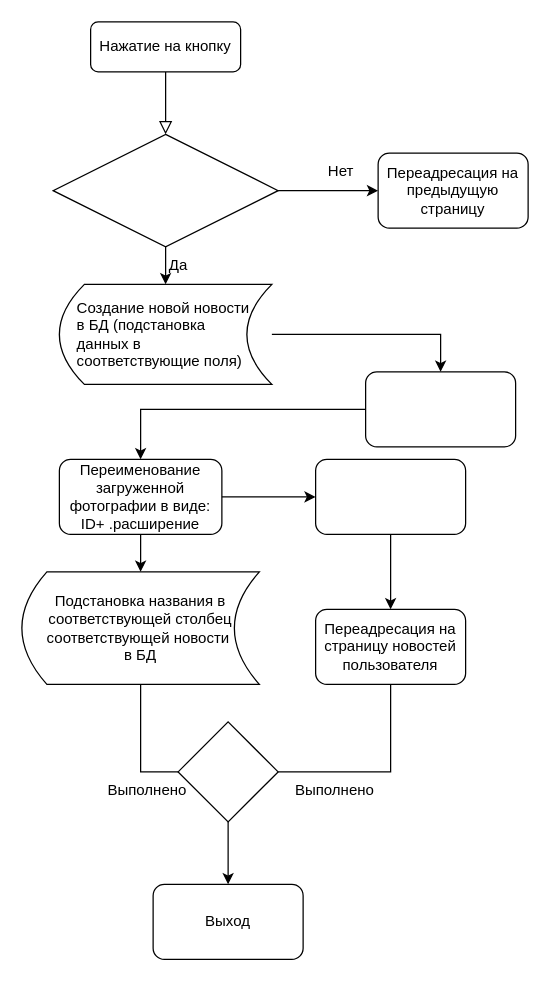
Some shapes in this 550 by 981 pixel diagram are drawn without their labels. Here are the shapes that lost their labels. From the top down, the centre of each, then its label:
At pixel 165 190: "Все поля заполнены?".
At pixel 440 409: "Поиск созданной новости и получение её ID".
At pixel 390 496: "Загрузка фотографии на сервер".
